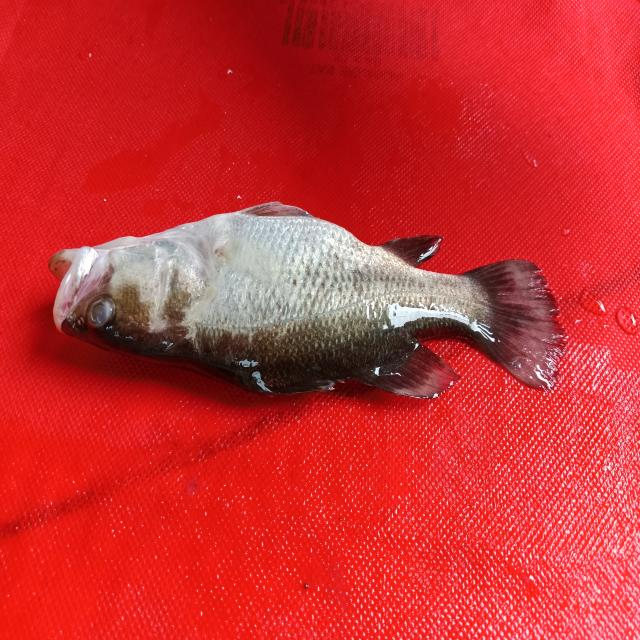ikan: (33, 177, 583, 435)
